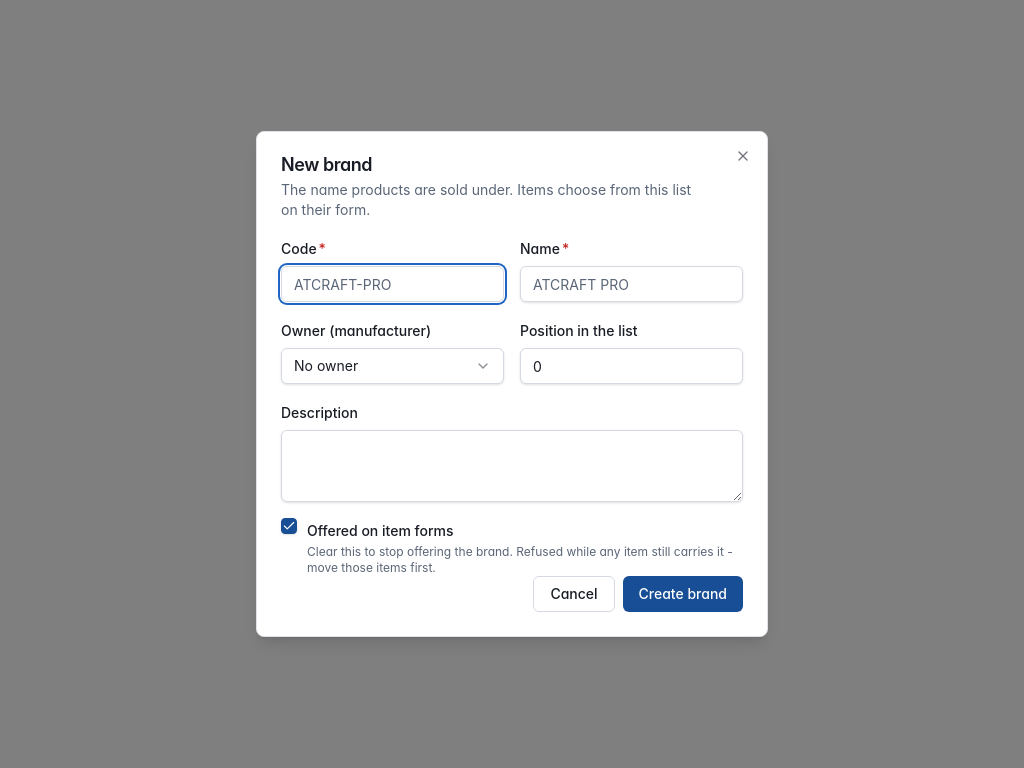
Scenario: editing a brand › puts a duplicate-code refusal on the code field
Type "ATCRAFT" into the field labelled "Code" at point(392, 284), box [281,266,504,302]
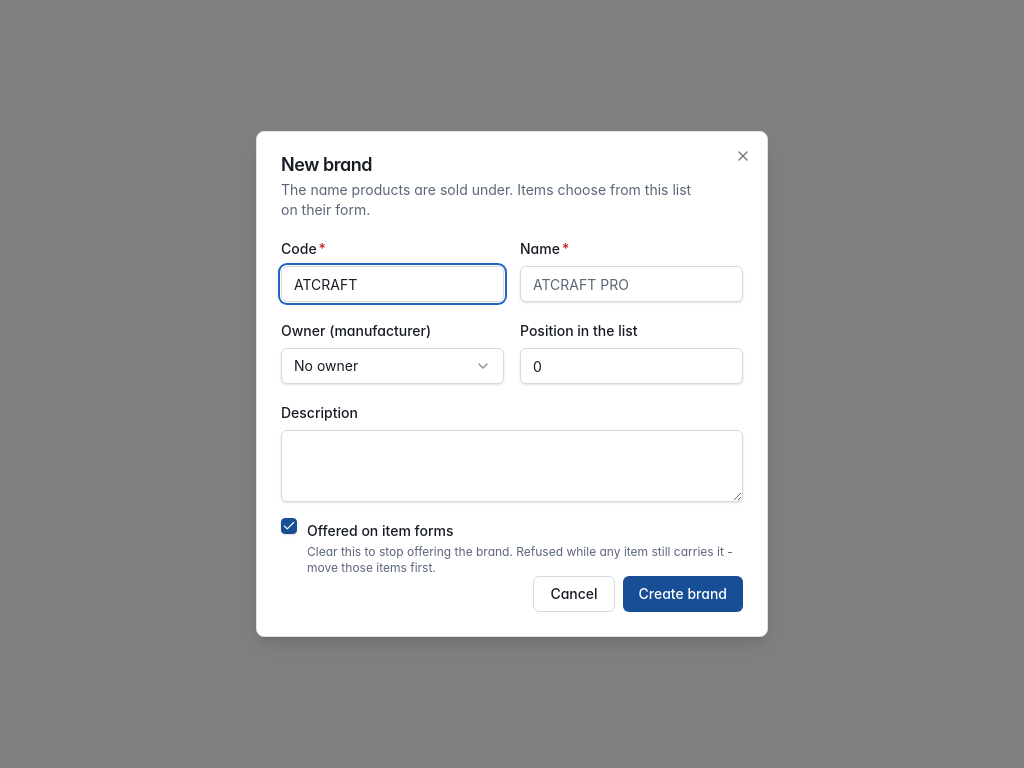
Type "Atcraft" into the field labelled "Name" at point(632, 284), box [520,266,743,302]
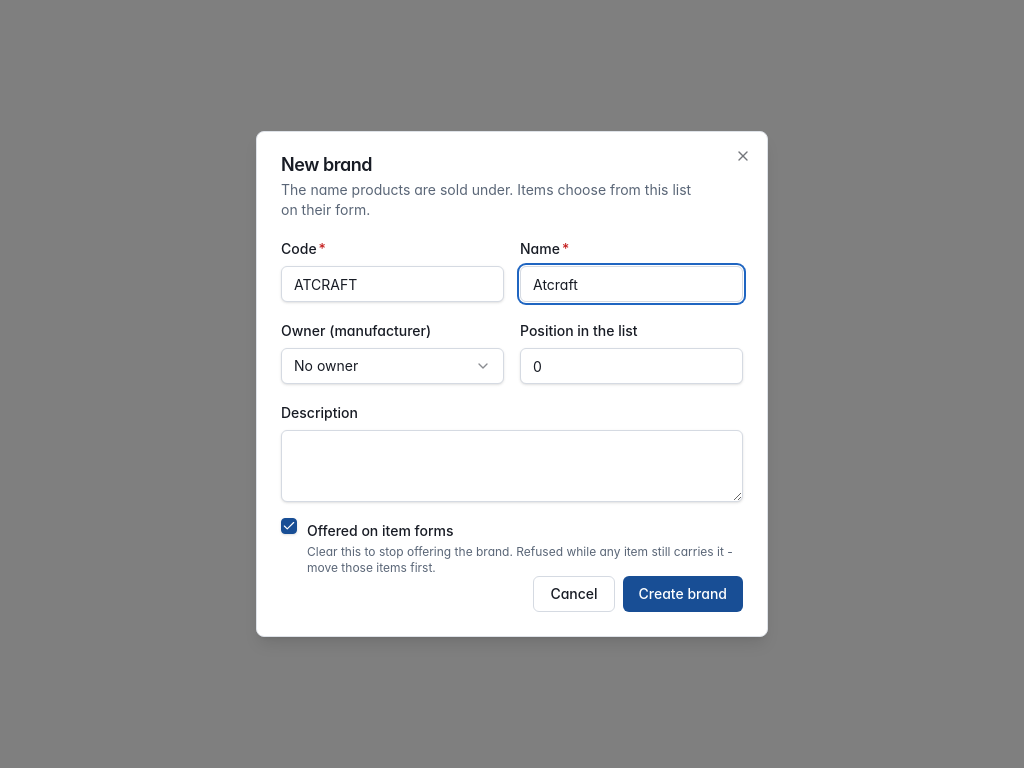
Click the button "Create brand" at point(683, 594), box [623,576,743,612]
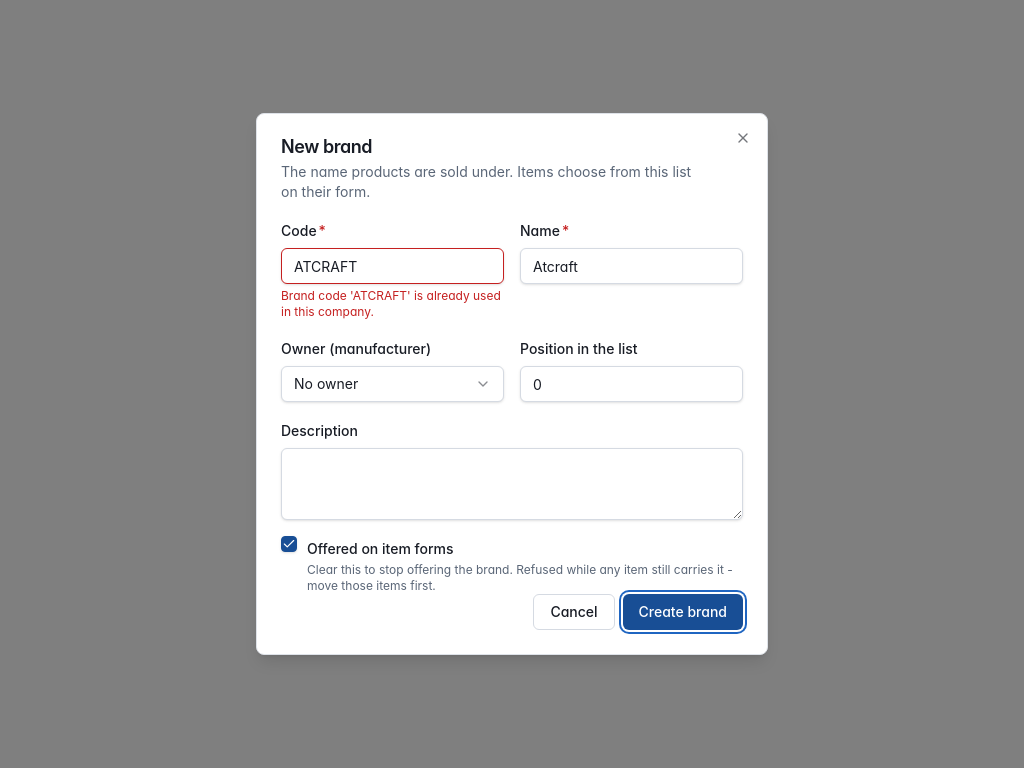
expect the text "Brand code 'ATCRAFT' is already used in this company." is shown: met, box [281,288,504,320]
